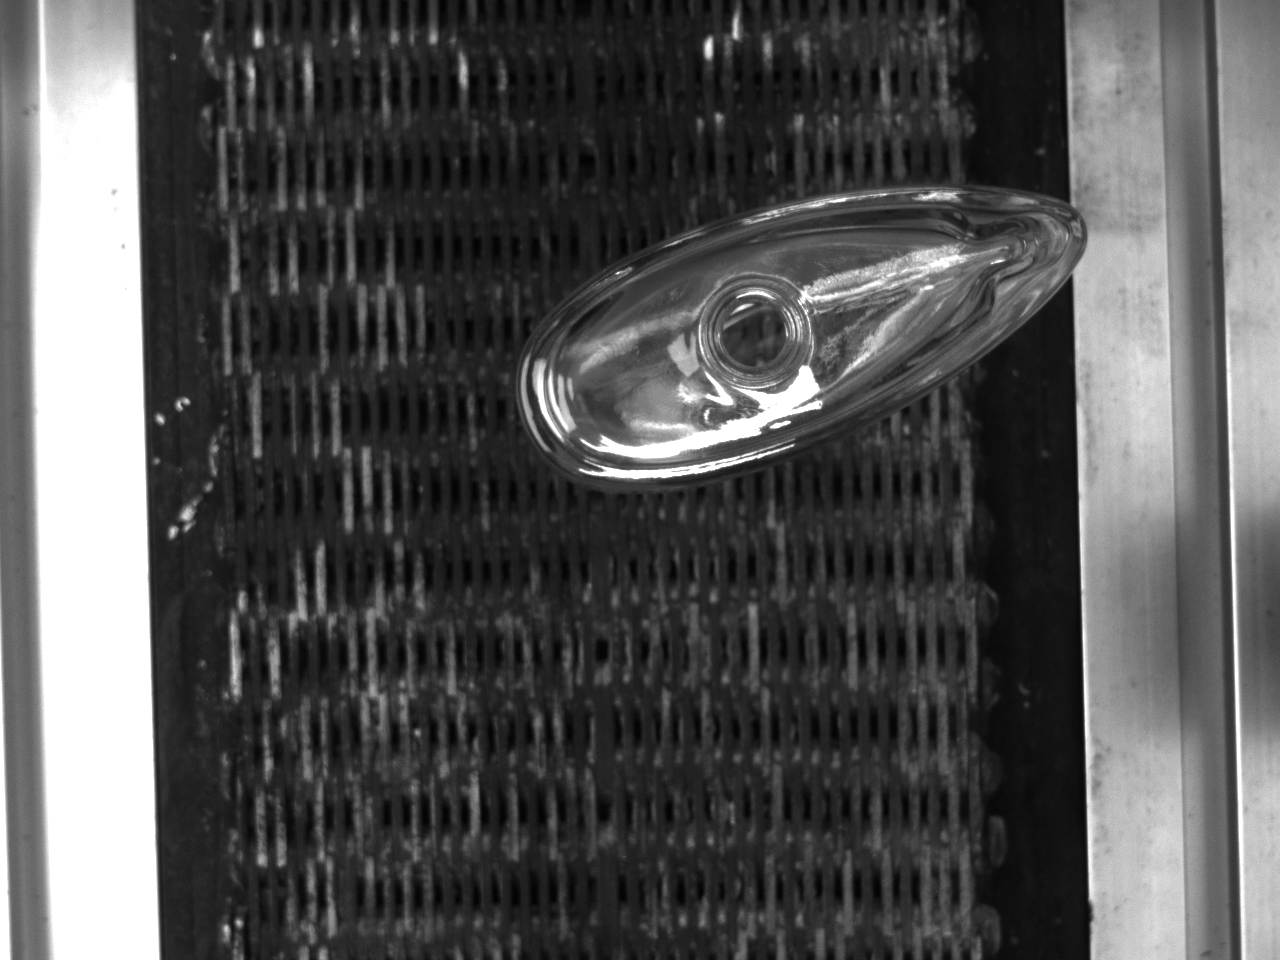bottleneck: (700, 275, 814, 388)
